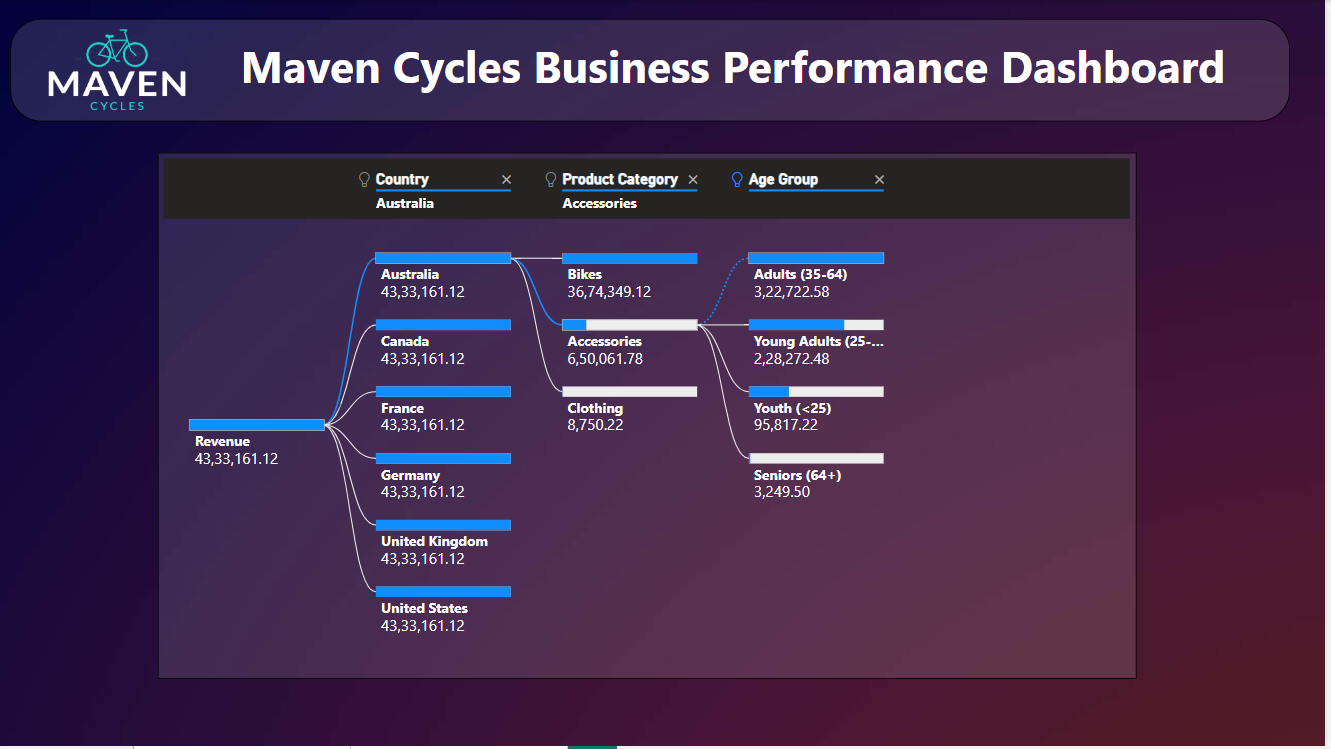

This screenshot's page, from the dashboard's own definition file:
{"tool":"powerbi","page":{"name":"Revenue Decomposition","canvas":[1280,720],"ordinal":1},"visuals":[{"type":"decompositionTreeVisual","fields":{"Analyze":["Maven Cycles Age Group.Revenue"],"ExplainBy":["Maven Cycles Regions.Country","Maven Cycles Product Categories.ProductCategory","Maven Cycles Age Group.AgeGroup"]},"box":[153,147.5,944.7,507.8],"z":0},{"type":"textbox","box":[10.9,18.1,1235.4,98.9],"z":1000},{"type":"image","box":[38.6,18.1,150.8,98.9],"z":2000}]}

Visuals, with their boxes in screenshot pixels (x1, y1, x2, y2), scaled from the page's 1280x720 canvas onto the 1331x749 screenshot:
decompositionTreeVisual - Maven Cycles Age Group.Revenue x Maven Cycles Regions.Country: [x1=159, y1=153, x2=1141, y2=682]
textbox: [x1=11, y1=19, x2=1296, y2=122]
image: [x1=40, y1=19, x2=197, y2=122]
